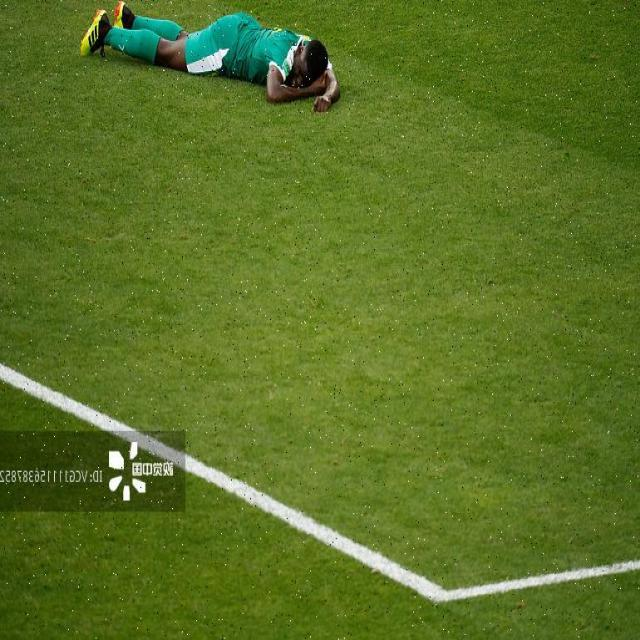fall: (81, 0, 344, 113)
